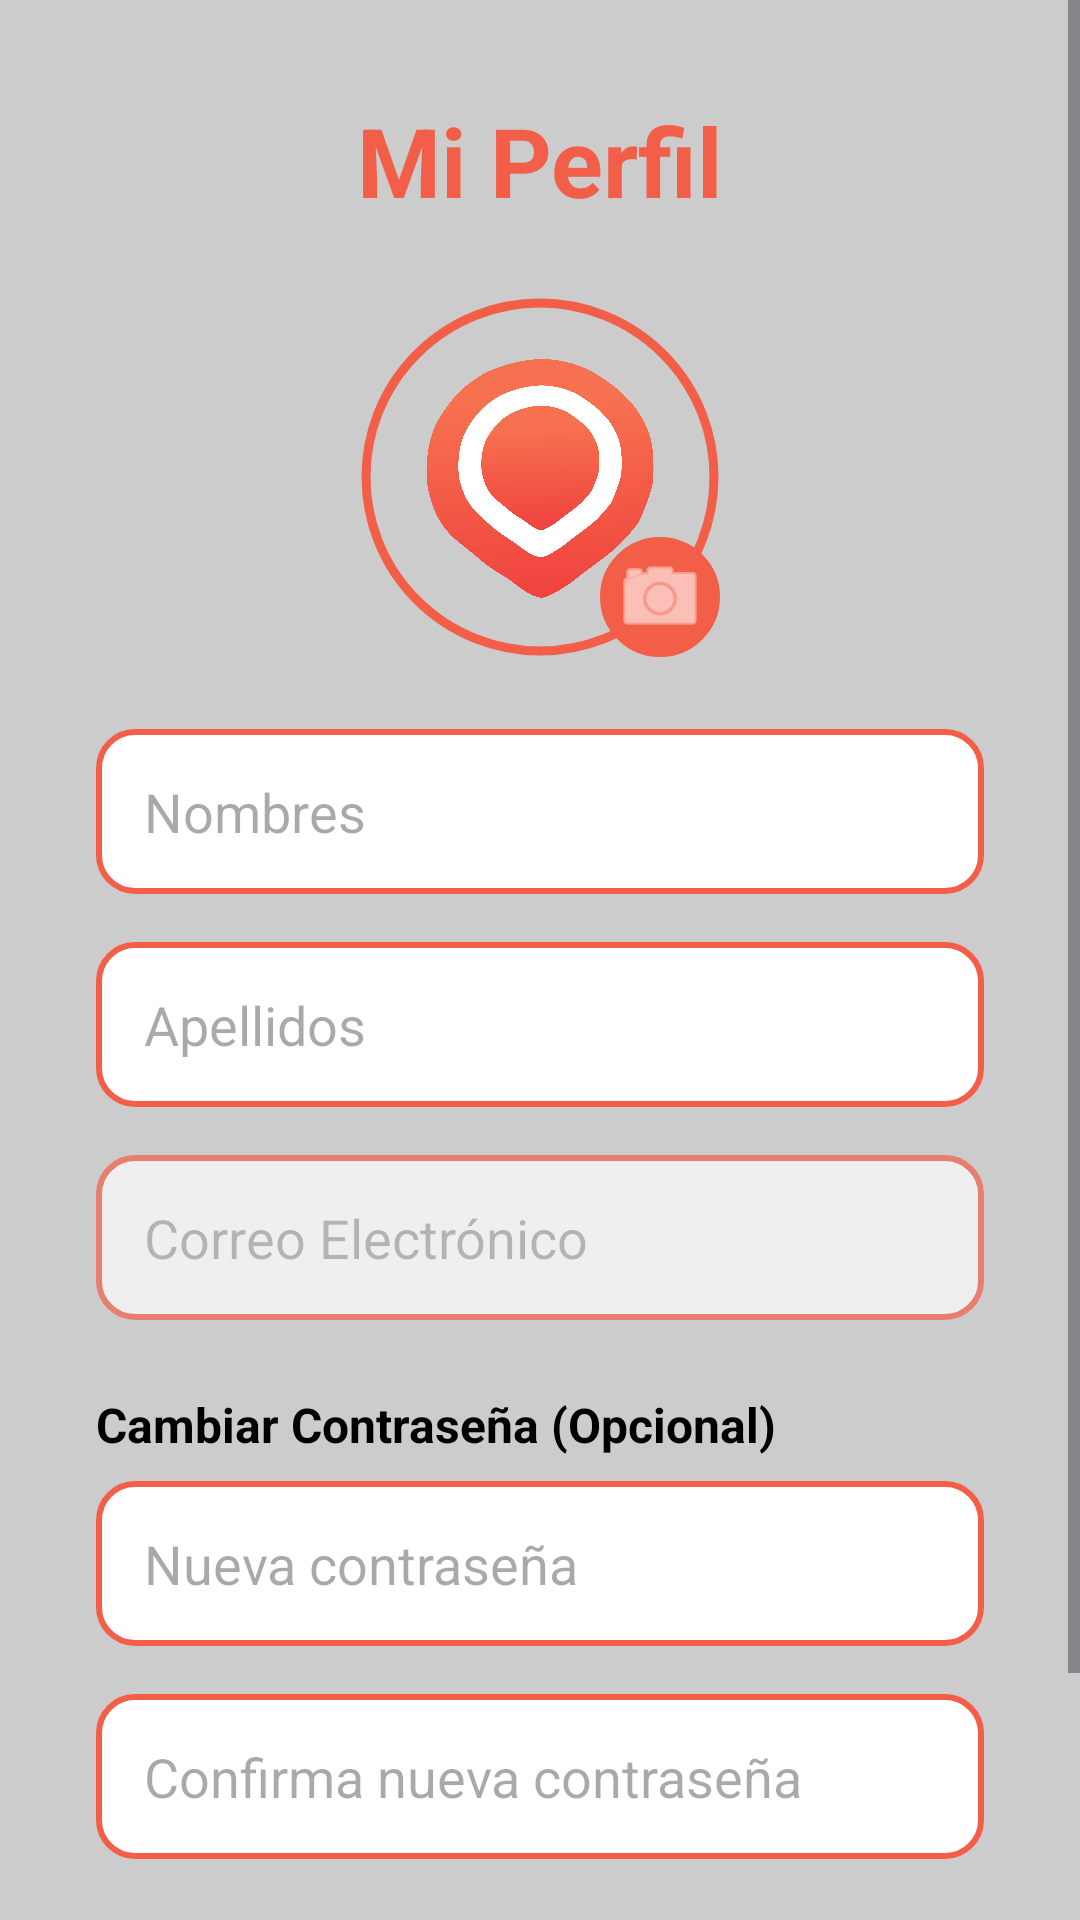

Icon bounding boxes for this 1080x1920 phone screenshot, format Rect(x1, y1, x2, y2):
Cambiar foto: Rect(600, 537, 720, 657)
